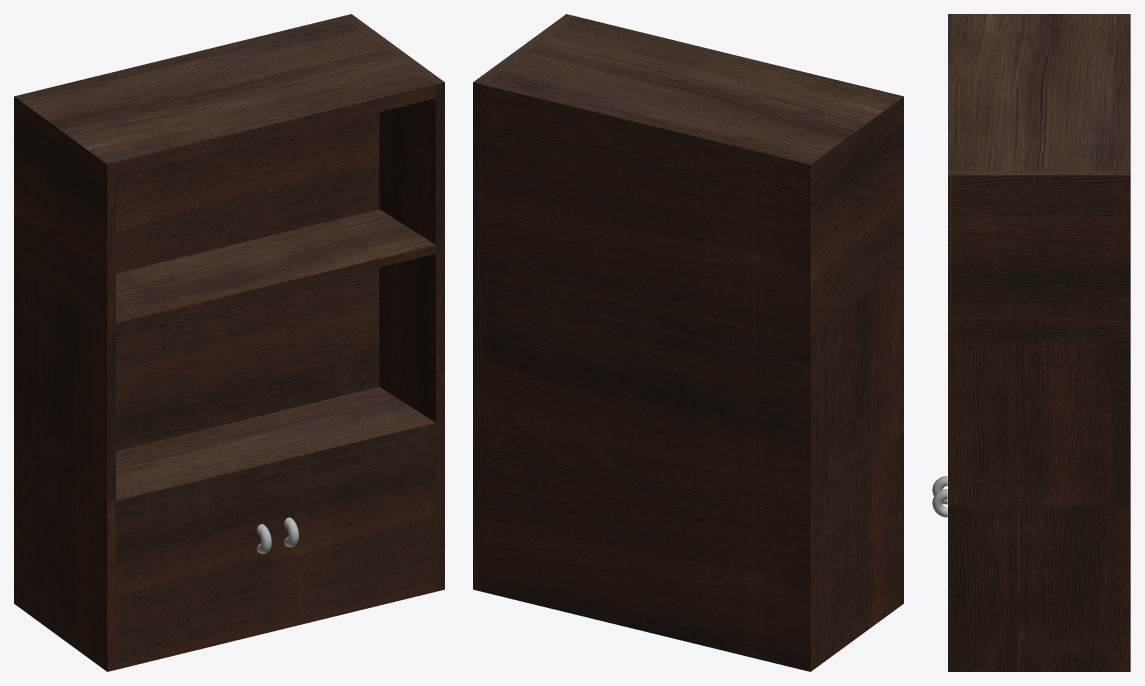
Rendered from Shelf_with_Cabinet.fbx.
3 views of the same model, side by side, from view 1: azimuth 30°, elevation 25°; view 2: azimuth 150°, elevation 25°; view 3: azimuth 270°, elevation 25° (orthographic). The views are drawn at different scales.
Parts seen in each view (by area): view 1: Shelf; view 2: Shelf; view 3: Shelf.
Boxes of the visible parts, bbox=[...] form: Shelf: bbox=[14, 14, 444, 671]; Shelf: bbox=[473, 14, 903, 671]; Shelf: bbox=[932, 14, 1130, 671].
Size of the model in its own units: 2.09 by 3 by 1.09.
5 materials, 4 textured.
